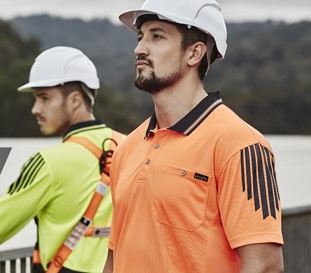epi: (101, 1, 286, 273), (6, 44, 125, 273)
